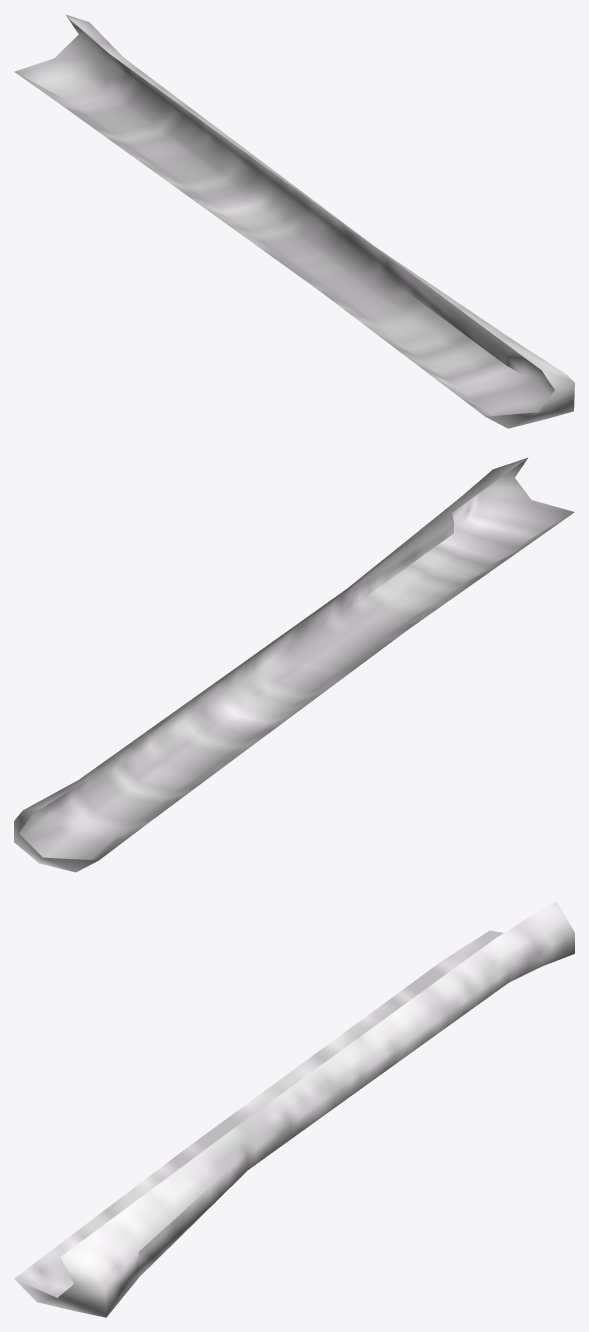
3 renders of one model, top to bottom at view 1: azimuth 30°, elevation 25°; view 2: azimuth 150°, elevation 25°; view 3: azimuth 330°, elevation 25°, orthographic.
Parts seen in each view (by area): view 1: wg_r_c_s; view 2: wg_r_c_s; view 3: wg_r_c_s.
Part boxes in pixels (bbox=[...]): wg_r_c_s: bbox=[14, 14, 574, 428]; wg_r_c_s: bbox=[14, 457, 574, 872]; wg_r_c_s: bbox=[14, 901, 574, 1317].
Size of the model in its own units: 0.2437 by 0.1446 by 2.22.
1 material, 1 textured.
